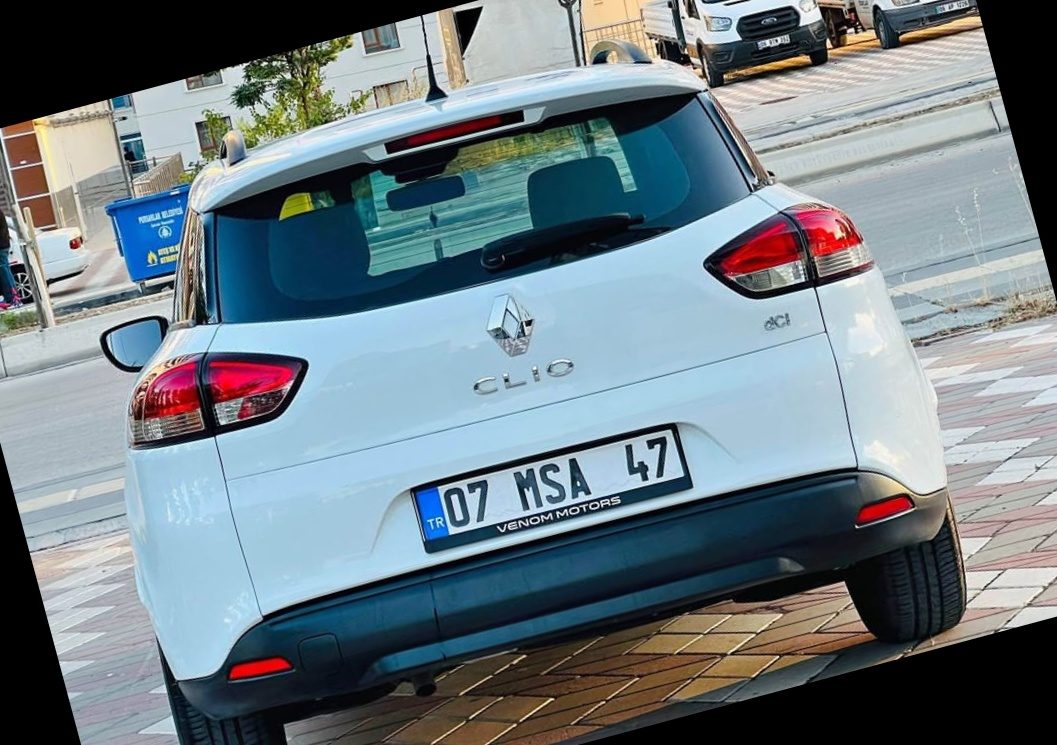plaka: (440, 429, 681, 531)
